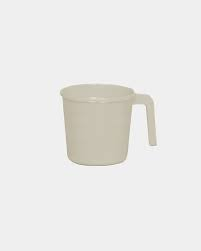mug: (58, 68, 170, 184)
